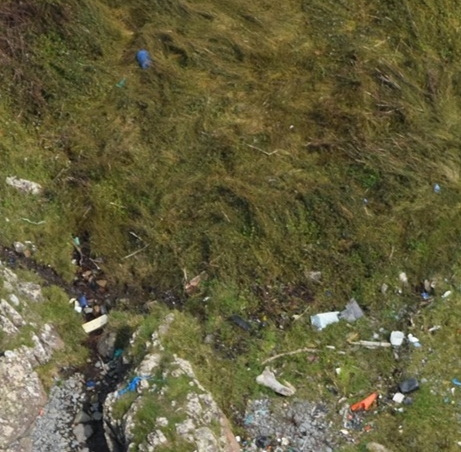scattered_barrel: (312, 269, 461, 420)
together_barrel: (67, 233, 143, 395)
white_in_green: (110, 30, 175, 87)
